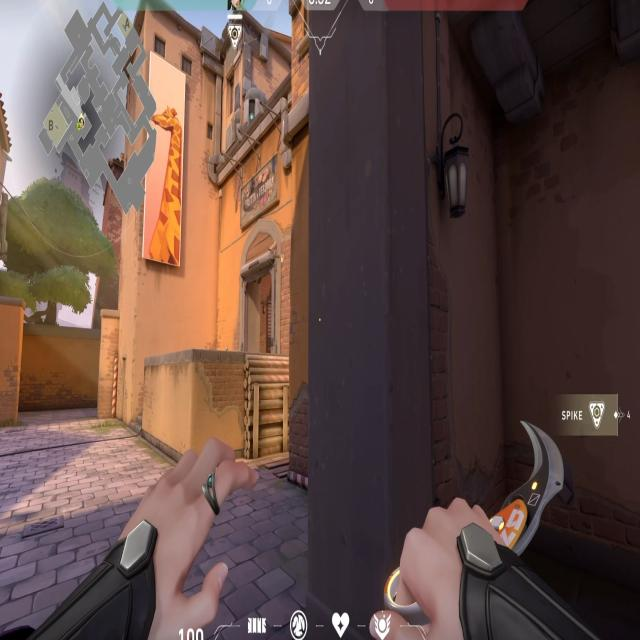B_Cubby: (186, 345, 293, 483)
